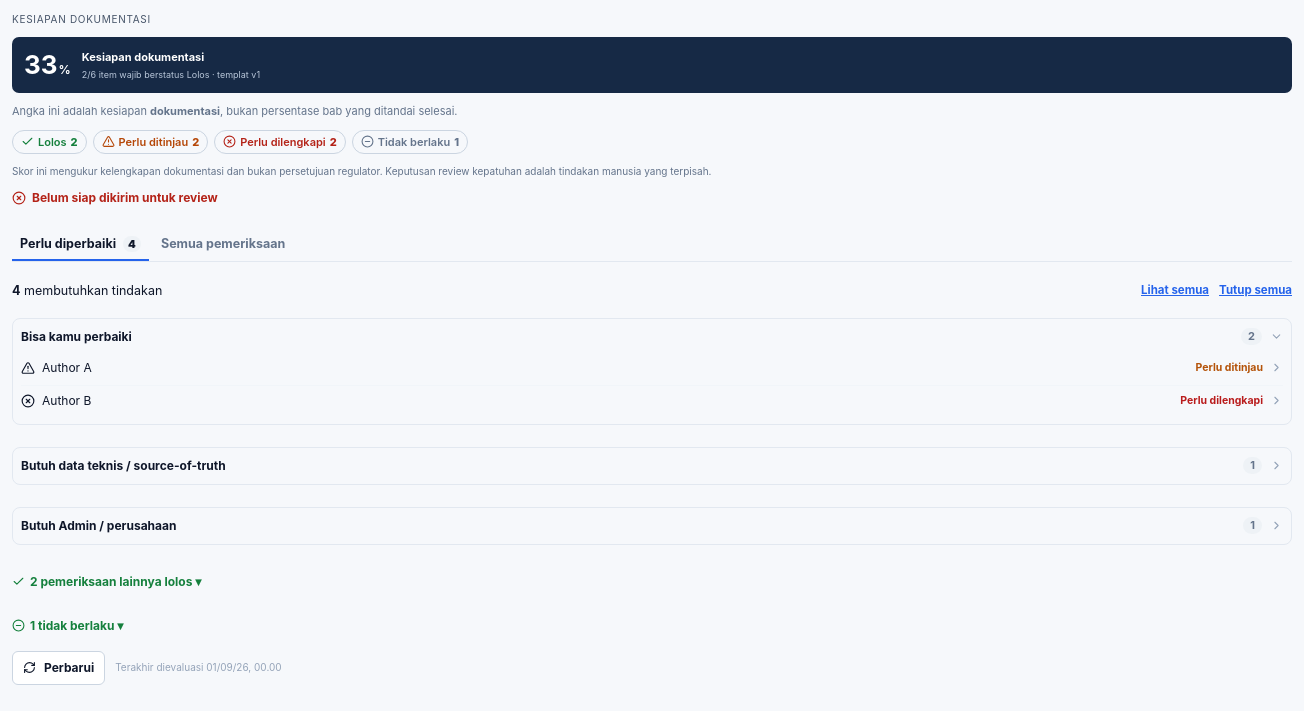
Test: ValidationPanel — compact by default › PASS and N/A checks are collapsed behind their own toggles
Expected: the text "Lolos 1" is not shown
Click the button "2 pemeriksaan lainnya lolos ▾" at x=107, y=582, box [12,568,201,594]
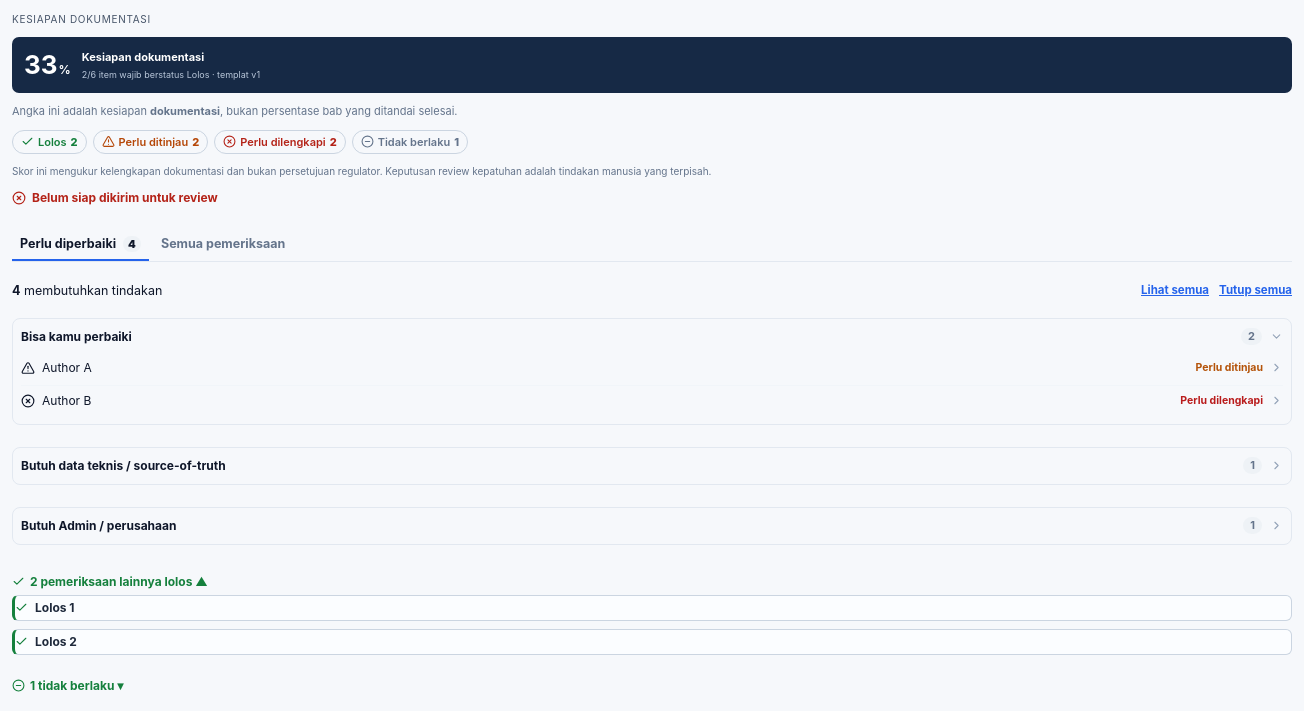
Now the text "Lolos 1" is shown, box [35,598,74,616]
